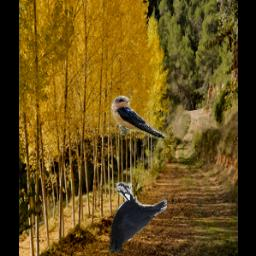Crow: (109, 183, 167, 254)
Swallow: (110, 93, 170, 140)
